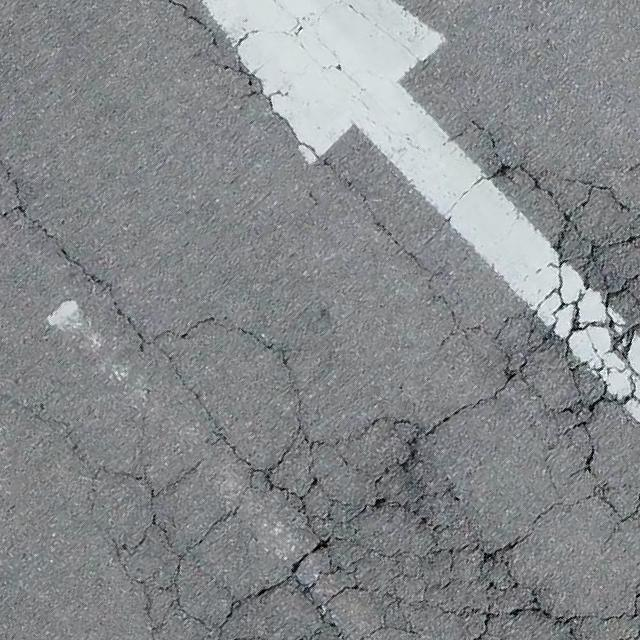GRIETA: (0, 160, 146, 338), (279, 116, 404, 255), (0, 393, 91, 479), (166, 0, 216, 45)
PIEL DE COCODRILO: (78, 117, 639, 639), (196, 30, 297, 113)
